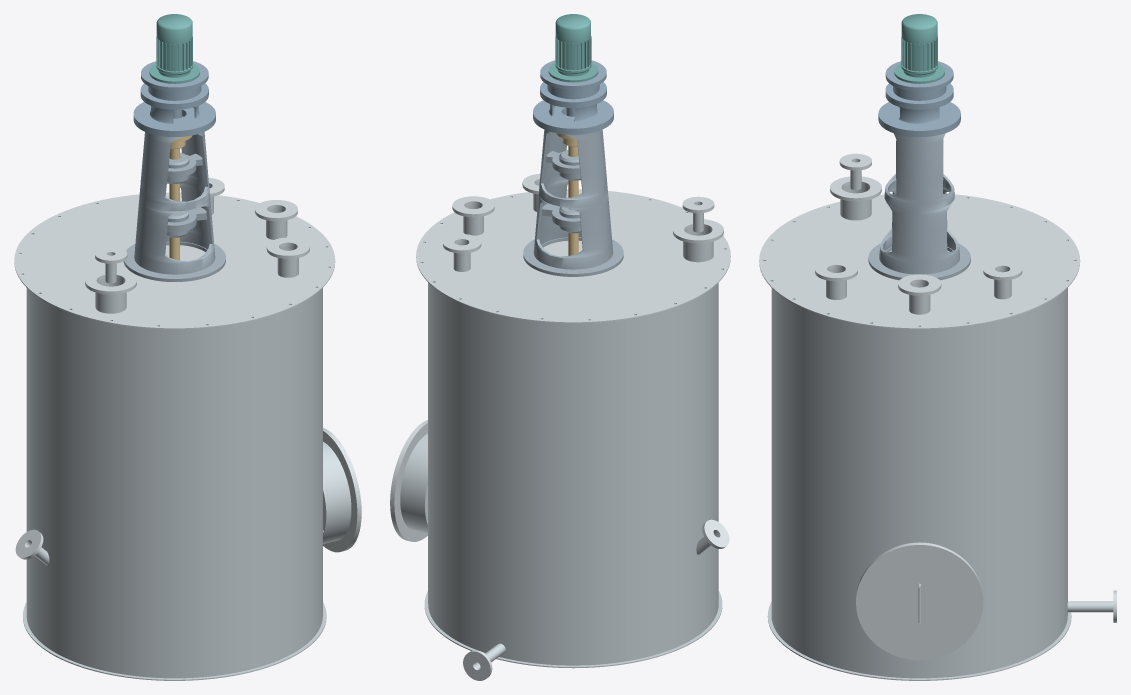
3 views of the same model, side by side, from view 1: azimuth 30°, elevation 25°; view 2: azimuth 150°, elevation 25°; view 3: azimuth 270°, elevation 25° (orthographic).
Visible parts, largest first — view 1: 本体_钢壳, 盖面_开孔盖板, 搅拌_06_Tapered_window_frame_with_bored_seats, 搅拌_01_Motor, 接口_e接管, 搅拌_02_Base_flange_top, 接口_e法兰, 搅拌_06_Frame_foot, 本体_底板, 接口_c外套法兰, 搅拌_02_Upper_mount_flange, 接口_c外套接管 (+5 smaller); view 2: 本体_钢壳, 盖面_开孔盖板, 搅拌_06_Tapered_window_frame_with_bored_seats, 搅拌_01_Motor, 接口_e接管, 搅拌_02_Base_flange_top, 接口_e法兰, 搅拌_06_Frame_foot, 本体_底板, 接口_c外套法兰, 搅拌_02_Upper_mount_flange, 接口_c外套接管 (+6 smaller); view 3: 本体_钢壳, 盖面_开孔盖板, 接口_e_人孔盖, 搅拌_06_Tapered_window_frame_with_bored_seats, 搅拌_01_Motor, 搅拌_02_Base_flange_top, 本体_底板, 搅拌_06_Frame_foot, 接口_c外套法兰, 搅拌_02_Upper_mount_flange, 接口_c外套接管, 接口_b法兰 (+5 smaller).
Boxes of the visible parts, x1,y1,x2,y2 form: 本体_钢壳: (26,287,322,678); 盖面_开孔盖板: (14,192,335,329); 搅拌_06_Tapered_window_frame_with_bored_seats: (134,116,215,274); 搅拌_01_Motor: (149,14,199,83); 接口_e接管: (323,441,351,543); 搅拌_02_Base_flange_top: (133,102,215,133); 接口_e法兰: (323,428,360,552); 搅拌_06_Frame_foot: (123,241,225,281); 本体_底板: (23,602,326,680); 接口_c外套法兰: (85,270,136,294); 搅拌_02_Upper_mount_flange: (141,61,208,91); 接口_c外套接管: (95,278,126,313); 本体_钢壳: (428,282,718,665); 盖面_开孔盖板: (416,189,730,323); 搅拌_06_Tapered_window_frame_with_bored_seats: (533,114,612,269); 搅拌_01_Motor: (548,14,598,82); 接口_e接管: (400,433,427,533); 搅拌_02_Base_flange_top: (533,100,613,131); 接口_e法兰: (391,421,427,541); 搅拌_06_Frame_foot: (523,237,623,276); 本体_底板: (424,591,722,668); 接口_c外套法兰: (673,219,723,243); 搅拌_02_Upper_mount_flange: (540,60,606,89); 接口_c外套接管: (683,227,713,262); 本体_钢壳: (771,288,1067,678); 盖面_开孔盖板: (759,193,1080,329); 接口_e_人孔盖: (856,544,983,660); 搅拌_06_Tapered_window_frame_with_bored_seats: (879,133,959,274); 搅拌_01_Motor: (894,14,944,83); 搅拌_02_Base_flange_top: (878,102,960,133); 本体_底板: (767,602,1071,680); 搅拌_06_Frame_foot: (868,243,970,280); 接口_c外套法兰: (830,176,881,201); 搅拌_02_Upper_mount_flange: (885,61,953,91); 接口_c外套接管: (840,185,871,220); 接口_b法兰: (898,274,941,295).
Size of the model in its own units: 1.87 by 3.38 by 1.83.
